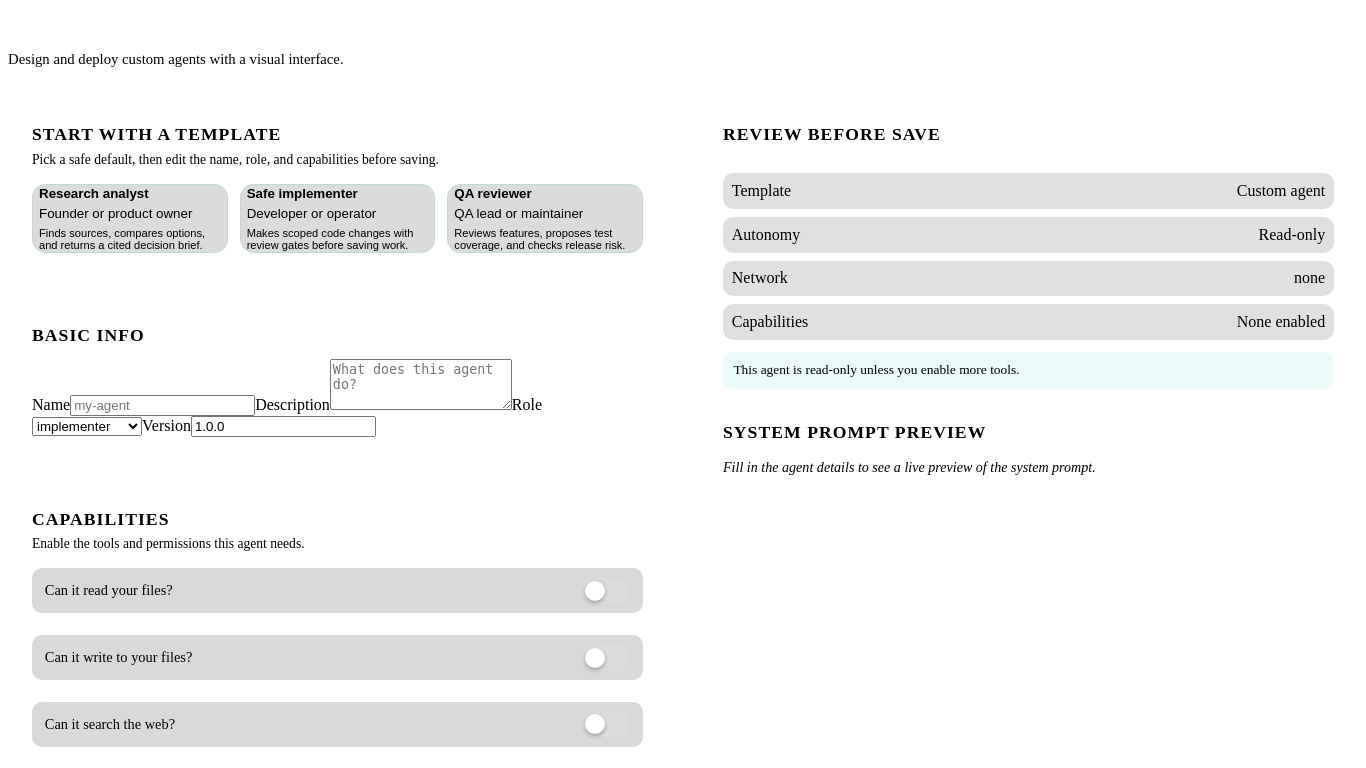
Test: AgentBuilderPage › applies a beginner-safe template with recommended setup guidance
The width and height of the screenshot is (1366, 768).
Click the button "Safe implementer".
click(338, 218)  # box [240,184,435,253]
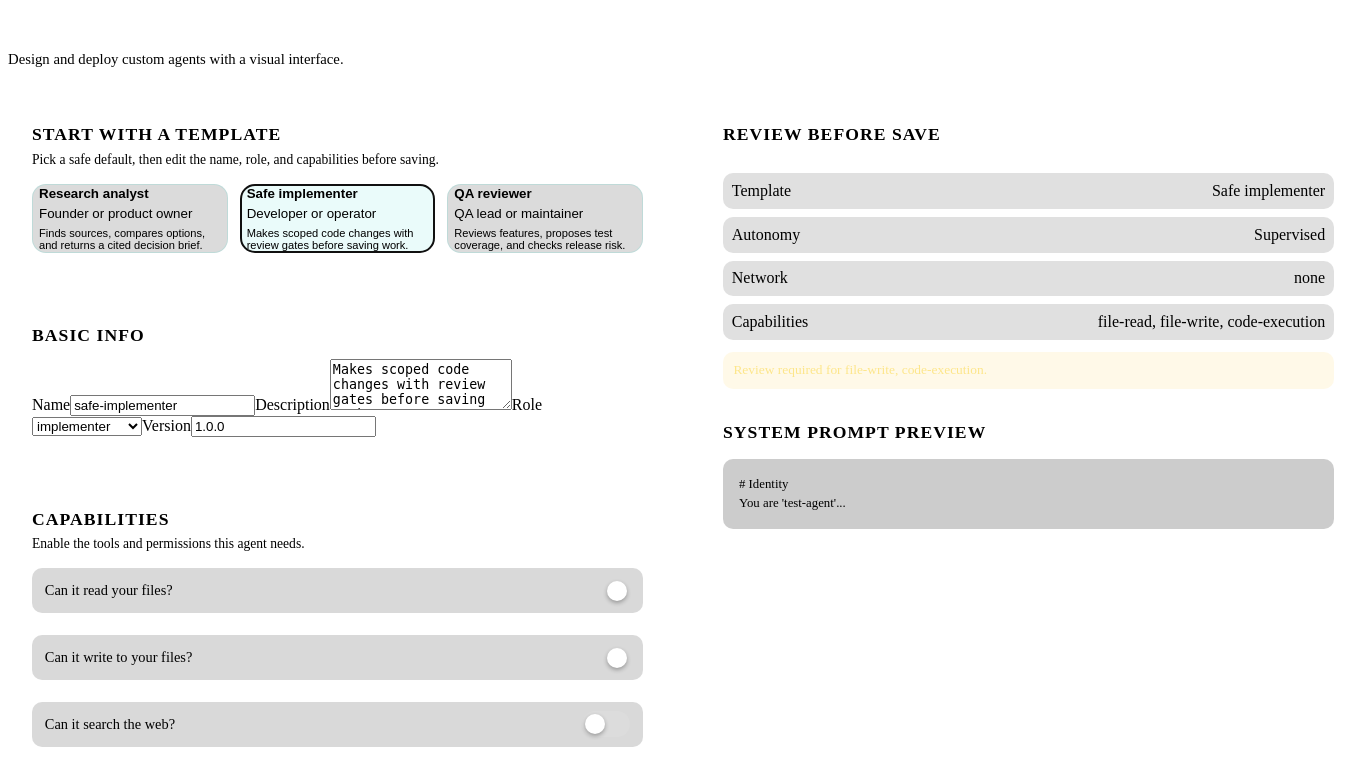
Expected: the dropdown showing "implementer" is shown, [32,417,142,436]
Now the field with placeholder "my-agent" holds "safe-implementer", box [70,395,255,416]
Now the text "Review required for file-write, code-execution." is shown, box [723,352,1334,389]
